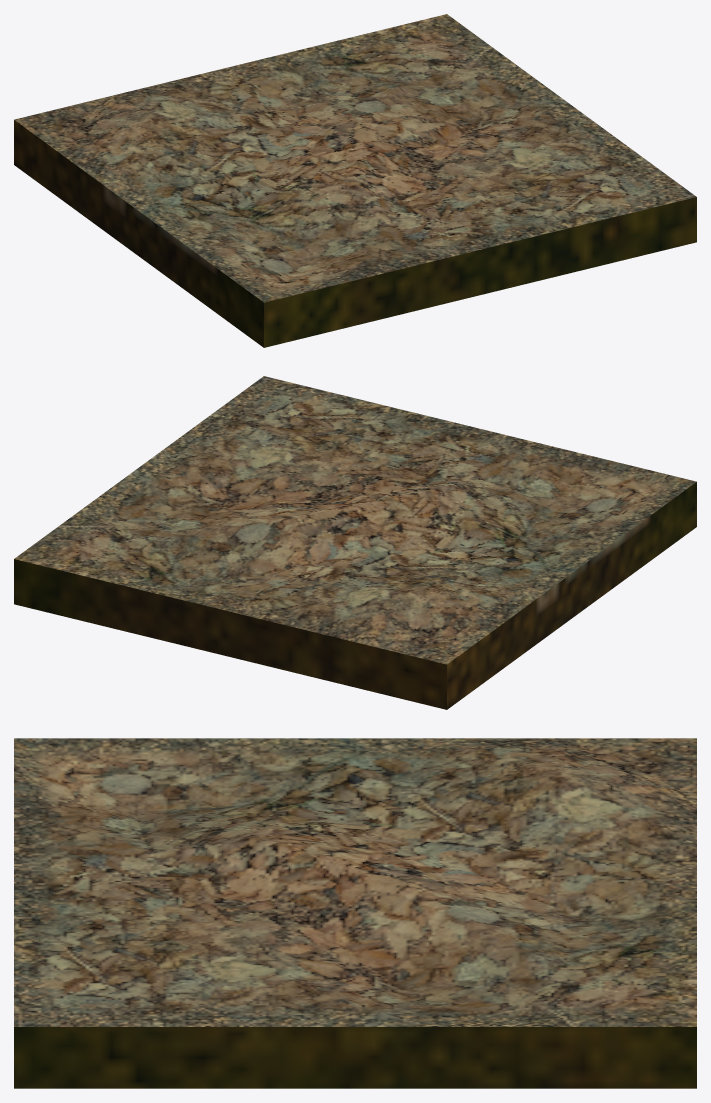
Rendered from LeafFloor.glb.
3 renders of one model, top to bottom at view 1: azimuth 30°, elevation 25°; view 2: azimuth 150°, elevation 25°; view 3: azimuth 270°, elevation 25°, orthographic. The views are drawn at different scales.
Visible parts, largest first — view 1: Cube; view 2: Cube; view 3: Cube.
Part boxes in pixels (x1,y1,x2,y2): Cube: [14, 14, 696, 347]; Cube: [14, 376, 696, 709]; Cube: [14, 738, 696, 1088].
Size of the model in its own units: 2 by 0.2663 by 2.
Materials: 1 (1 with a texture image).
